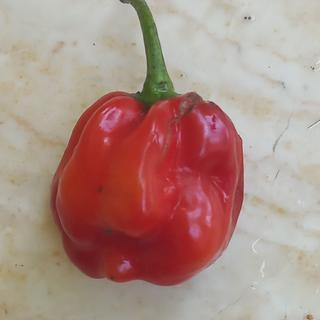Defect: (165, 88, 224, 127)
